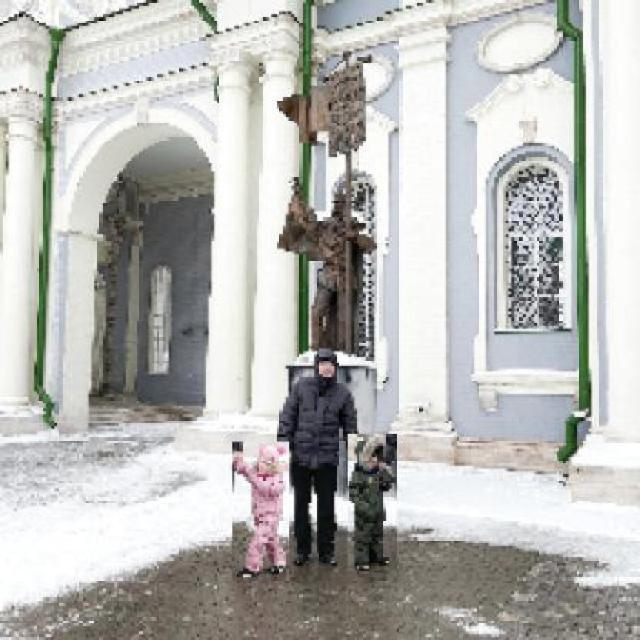child: (230, 442, 290, 582), (346, 434, 397, 572)
